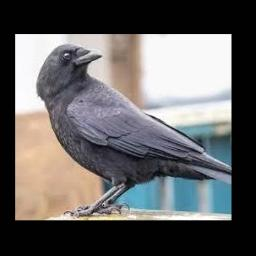Crow: (35, 44, 231, 217)
